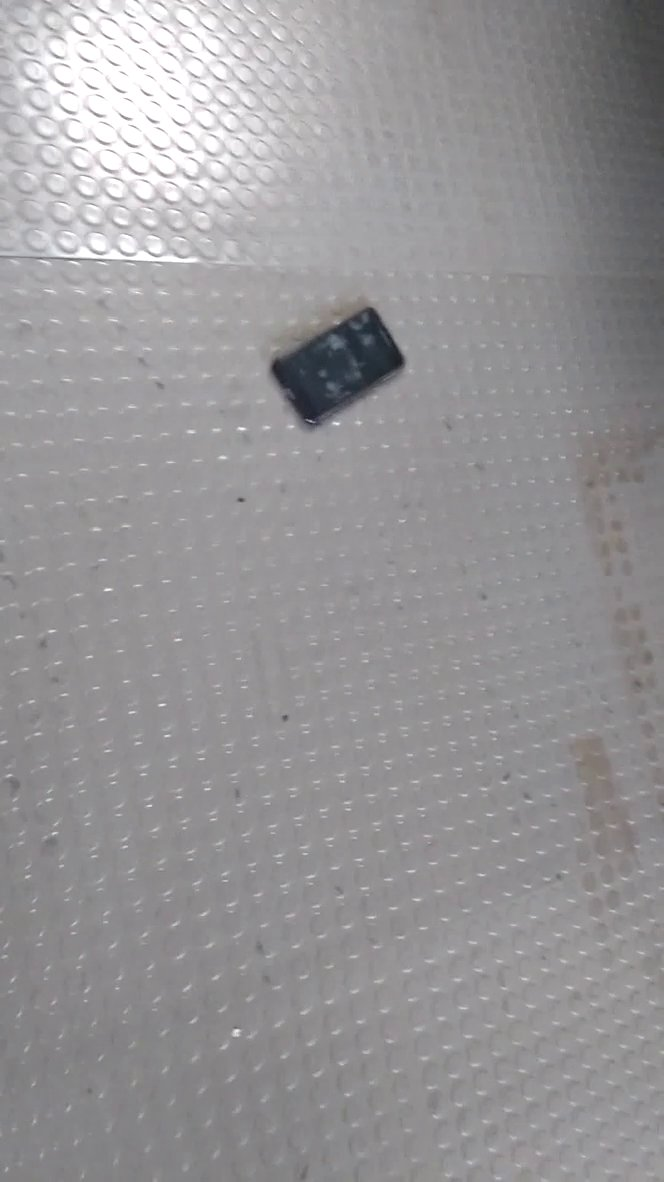phone: (257, 292, 423, 434)
